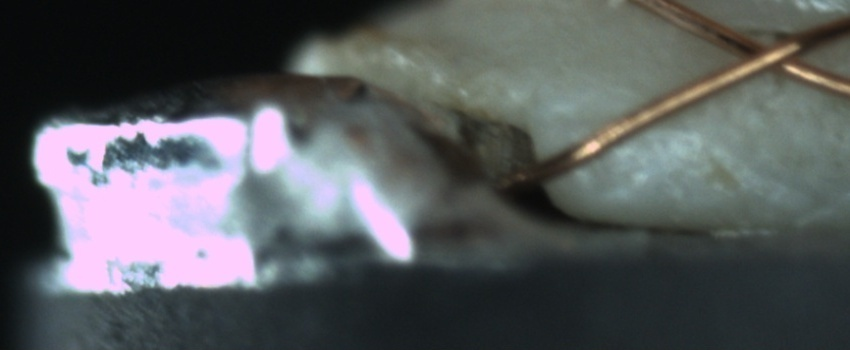CL: (702, 12, 839, 90)
